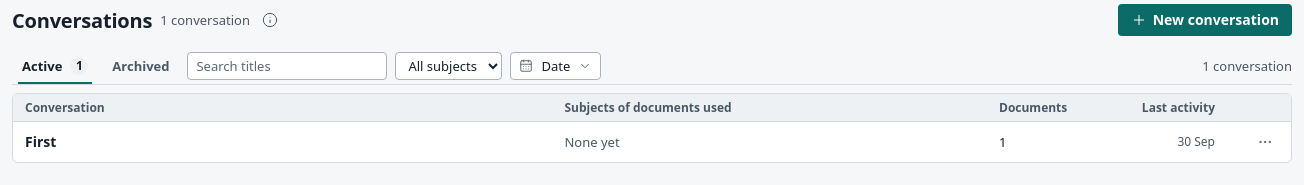
it: ConversationsPage › archiving › the Archived tab says so when the archived list can't load
Click the tab "Archived".
click(141, 66)  # box x1=102 y1=48 x2=179 y2=84
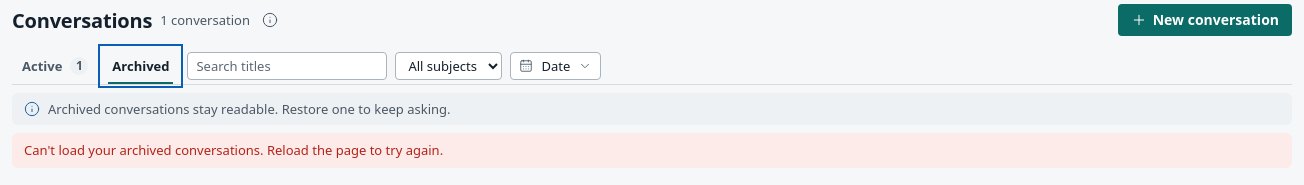
Now the text "Can't load your archived conversations. Reload the page to try again." is shown, box x1=12 y1=133 x2=1292 y2=168
